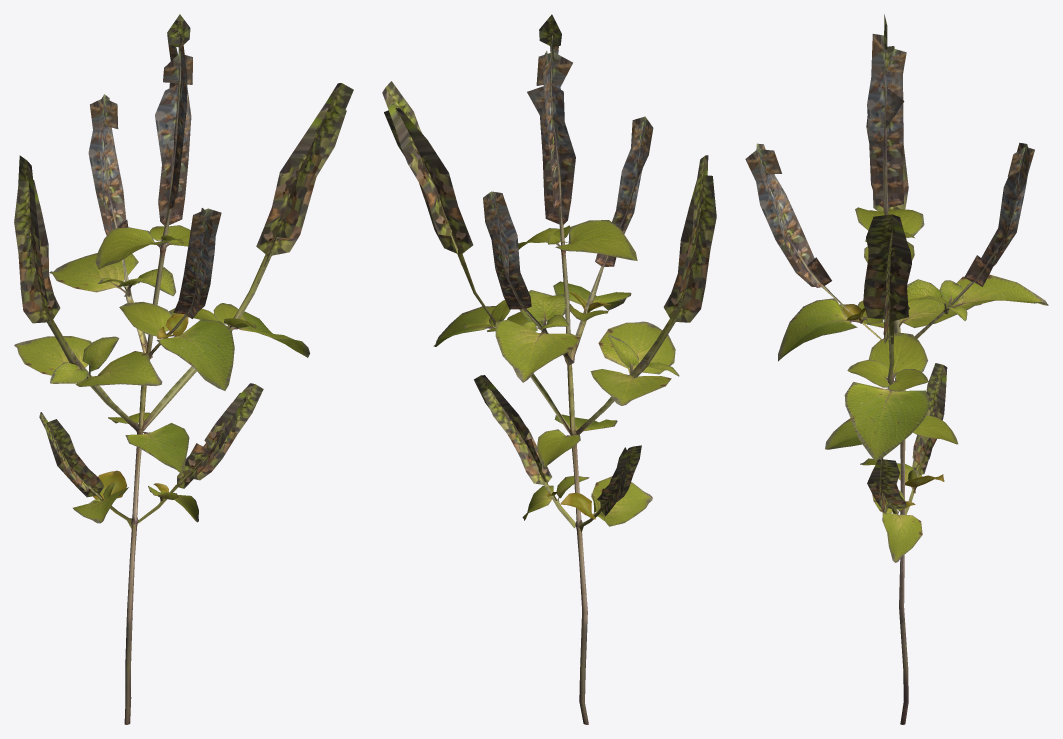
File: shrub_03_a.gltf
3 renders of one model, left to right at view 1: azimuth 30°, elevation 25°; view 2: azimuth 150°, elevation 25°; view 3: azimuth 270°, elevation 25°, orthographic. The views are drawn at different scales.
Visible parts, largest first — view 1: shrub_03_a; view 2: shrub_03_a; view 3: shrub_03_a.
Part boxes in pixels (box(x1,y1,x2,y2)): shrub_03_a: box(14, 14, 353, 724); shrub_03_a: box(382, 14, 716, 724); shrub_03_a: box(745, 14, 1048, 724).
Size of the model in its own units: 0.2006 by 0.4028 by 0.1512.
1 material, 1 textured.
